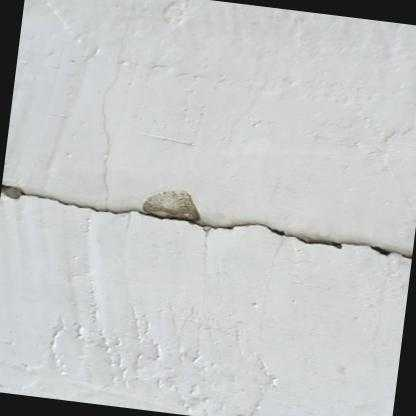crack: (0, 183, 412, 258)
